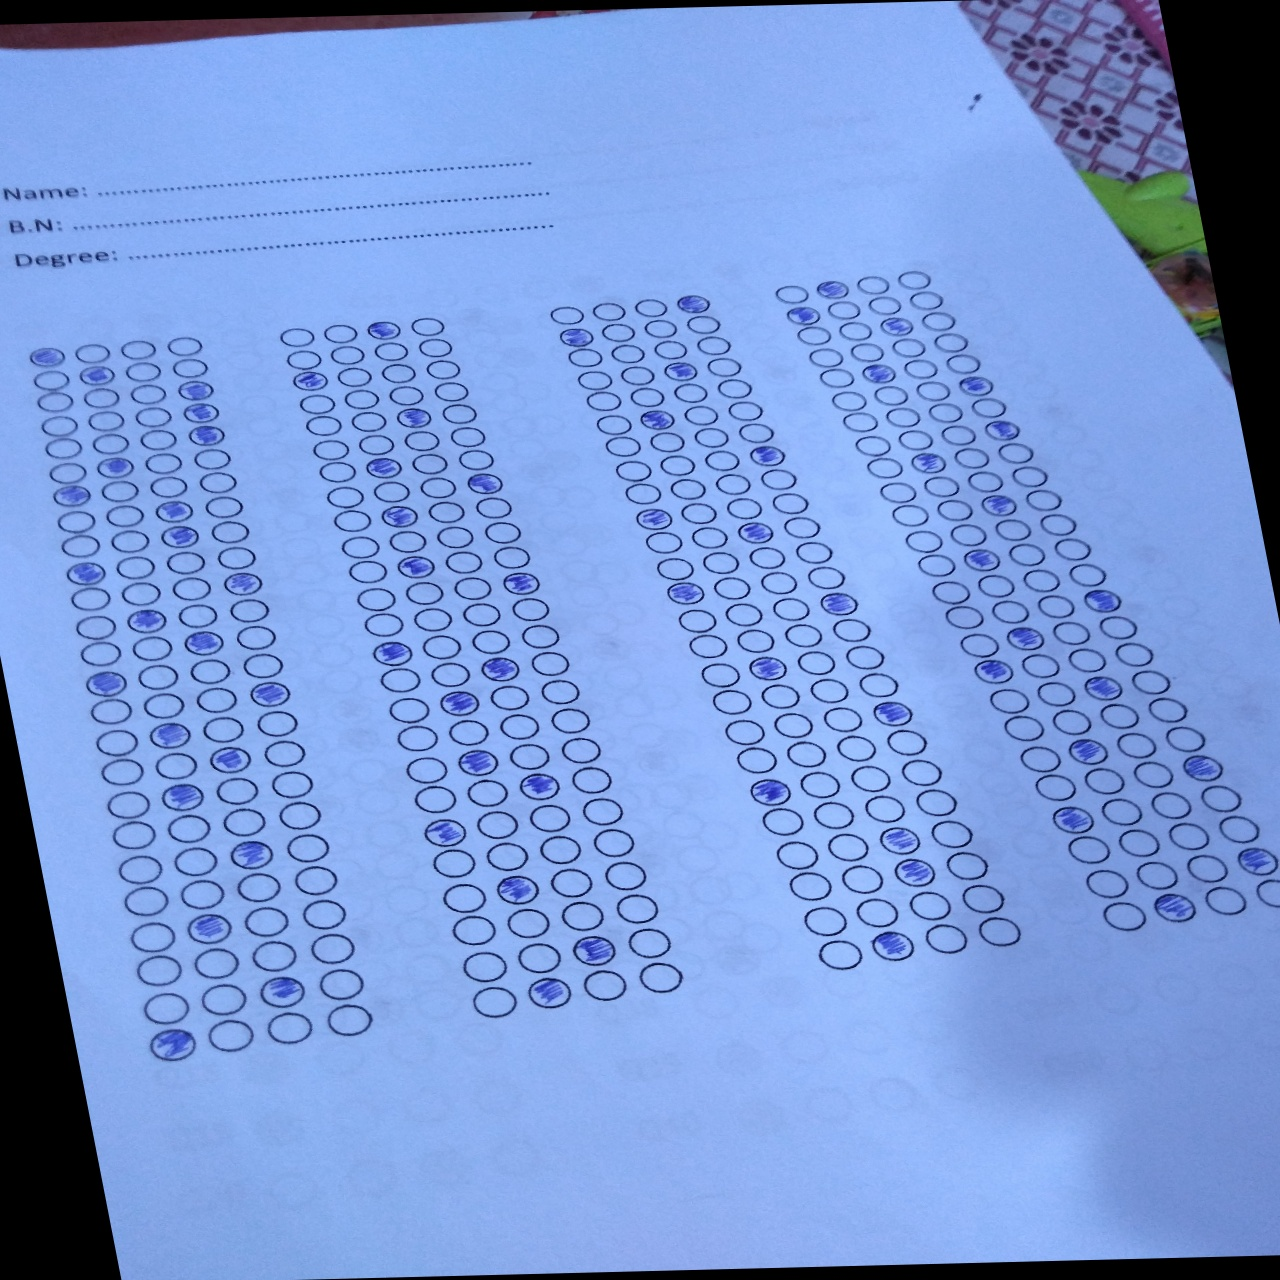not-c: (1081, 865, 1138, 901), (1131, 855, 1187, 891), (1182, 850, 1238, 886), (1200, 884, 1257, 920), (239, 903, 292, 941), (196, 980, 250, 1017), (139, 987, 192, 1024), (263, 1008, 315, 1046), (1062, 833, 1118, 869), (1092, 899, 1149, 934), (321, 1002, 375, 1039), (134, 953, 188, 989), (203, 1016, 256, 1053), (125, 919, 181, 953), (159, 812, 215, 845), (440, 881, 492, 915), (458, 949, 511, 983), (813, 937, 866, 971), (956, 879, 1009, 913), (447, 913, 501, 946), (847, 894, 901, 927), (427, 846, 481, 879), (613, 892, 665, 926), (558, 898, 610, 932), (799, 903, 851, 937), (926, 816, 978, 850), (635, 961, 688, 994), (622, 926, 675, 959), (468, 985, 520, 1017), (835, 863, 887, 896), (784, 871, 837, 904), (282, 830, 333, 864), (233, 869, 284, 903), (587, 825, 639, 858), (481, 838, 532, 871), (547, 866, 599, 899), (920, 922, 972, 955), (769, 838, 821, 871), (847, 762, 899, 795), (862, 789, 913, 822), (912, 787, 964, 819), (939, 849, 990, 881), (597, 858, 649, 890), (513, 940, 566, 972), (822, 832, 874, 864), (171, 844, 222, 877), (121, 883, 171, 915), (115, 853, 165, 886), (176, 879, 226, 912), (299, 899, 350, 931), (974, 915, 1026, 947), (503, 906, 554, 938), (579, 967, 631, 999), (533, 833, 585, 865), (906, 891, 958, 922), (894, 756, 946, 788), (308, 930, 358, 962), (192, 947, 241, 980), (248, 939, 299, 971), (292, 864, 342, 896), (316, 968, 366, 1000), (237, 651, 290, 680), (218, 805, 266, 837), (199, 714, 247, 745), (86, 695, 134, 727), (189, 685, 238, 715), (188, 658, 237, 688), (104, 790, 154, 821), (151, 750, 202, 779), (275, 799, 324, 830), (93, 726, 141, 756), (1064, 644, 1112, 674), (1107, 638, 1155, 668), (132, 662, 184, 690), (98, 758, 148, 788), (107, 819, 156, 849), (1016, 652, 1065, 681), (535, 678, 583, 707), (568, 765, 617, 795), (729, 745, 777, 775), (374, 666, 422, 695), (213, 777, 261, 806), (821, 704, 869, 734), (988, 597, 1036, 626), (912, 550, 960, 579), (1095, 702, 1143, 731), (756, 683, 805, 712), (496, 713, 543, 742), (577, 795, 624, 824), (546, 706, 593, 735), (719, 600, 765, 629), (697, 661, 744, 690), (462, 777, 509, 806), (808, 799, 855, 829), (781, 738, 828, 768), (260, 738, 307, 768), (427, 659, 474, 688), (409, 605, 456, 634), (1030, 772, 1077, 802), (1015, 743, 1062, 772), (1167, 821, 1214, 850), (1096, 797, 1143, 826), (1082, 765, 1129, 795), (973, 571, 1020, 600), (953, 629, 1000, 659), (1148, 790, 1194, 819), (1145, 694, 1192, 723), (1128, 667, 1175, 696), (1062, 559, 1109, 588), (792, 535, 839, 564), (464, 627, 515, 654), (129, 632, 173, 662), (232, 622, 280, 651), (505, 742, 553, 770), (733, 628, 781, 656), (758, 808, 806, 836), (685, 634, 733, 662), (471, 810, 519, 838), (527, 804, 576, 832), (769, 595, 817, 624), (798, 771, 846, 799), (266, 769, 314, 797), (410, 785, 458, 813), (392, 724, 440, 753), (384, 697, 433, 726), (139, 692, 188, 720), (1046, 709, 1094, 737), (1032, 678, 1080, 706), (938, 602, 986, 631), (899, 525, 947, 553), (1126, 758, 1175, 787), (1112, 730, 1160, 758), (1194, 783, 1242, 811), (1047, 533, 1095, 561), (799, 561, 847, 590), (457, 600, 503, 629), (486, 685, 533, 713), (557, 737, 604, 765), (767, 713, 813, 741), (708, 687, 755, 715), (445, 719, 492, 747), (252, 709, 299, 737), (418, 634, 465, 662), (401, 751, 448, 779), (982, 687, 1029, 715), (828, 613, 874, 641), (842, 642, 888, 670), (806, 676, 853, 704), (856, 670, 903, 699), (831, 733, 878, 761), (999, 712, 1046, 740), (1214, 813, 1261, 842), (1116, 828, 1163, 856), (925, 579, 972, 607), (1047, 619, 1094, 647), (1162, 724, 1208, 753), (1092, 612, 1139, 640), (1030, 509, 1077, 537), (1034, 593, 1081, 621), (1020, 567, 1067, 595), (1005, 542, 1051, 570), (722, 719, 769, 745), (105, 529, 154, 554), (161, 331, 206, 358), (516, 622, 561, 649), (874, 482, 918, 510), (175, 602, 222, 628), (403, 581, 450, 607), (200, 493, 245, 520), (1023, 484, 1065, 512), (969, 393, 1012, 421), (338, 535, 383, 560), (39, 413, 84, 438), (527, 651, 571, 678), (886, 730, 930, 757), (324, 343, 370, 368), (66, 586, 113, 611), (59, 533, 105, 558), (40, 437, 87, 462), (79, 641, 125, 666), (116, 336, 161, 362), (190, 448, 234, 474), (408, 311, 452, 336), (170, 576, 215, 601), (295, 392, 340, 417), (363, 611, 408, 636), (760, 568, 802, 595), (965, 469, 1007, 496), (945, 518, 987, 545), (996, 440, 1039, 467), (135, 428, 181, 452), (227, 598, 273, 622), (354, 433, 400, 457), (333, 365, 379, 389), (331, 509, 376, 533), (325, 485, 370, 510), (308, 436, 354, 461), (54, 508, 100, 532), (103, 503, 149, 527), (86, 434, 131, 458), (930, 496, 975, 520), (451, 576, 495, 601), (781, 622, 824, 648), (165, 549, 206, 576), (990, 515, 1032, 542), (1010, 464, 1051, 491), (345, 410, 392, 434), (343, 559, 390, 583), (30, 392, 77, 415), (73, 615, 120, 639), (206, 520, 251, 545), (546, 300, 591, 325), (79, 384, 123, 409), (274, 324, 319, 348), (121, 361, 165, 386), (354, 586, 399, 611), (118, 583, 163, 607), (111, 556, 156, 580), (96, 481, 141, 505), (674, 608, 719, 633), (132, 406, 175, 431), (282, 346, 325, 372), (794, 649, 836, 675), (369, 481, 415, 504), (340, 388, 386, 411), (300, 416, 346, 440), (1250, 880, 1280, 915), (213, 546, 257, 571), (72, 341, 115, 366), (925, 400, 968, 424), (938, 421, 981, 445), (125, 382, 170, 406), (43, 461, 88, 484), (700, 448, 744, 471), (869, 382, 913, 406), (903, 287, 947, 311), (565, 345, 607, 369), (920, 476, 962, 501), (193, 470, 237, 493), (28, 368, 72, 392), (316, 320, 360, 343), (401, 428, 444, 451), (508, 598, 551, 621), (489, 545, 532, 568), (580, 389, 624, 413), (443, 549, 486, 572), (641, 530, 685, 553), (755, 465, 798, 489), (713, 377, 756, 401), (704, 354, 748, 377), (949, 445, 993, 469), (896, 428, 937, 452), (315, 458, 360, 481), (733, 422, 777, 444), (379, 361, 421, 384), (472, 497, 515, 520), (456, 445, 498, 469), (593, 411, 635, 435), (710, 576, 753, 599), (656, 454, 699, 477), (863, 456, 905, 479), (838, 409, 880, 433), (813, 366, 856, 389), (903, 358, 945, 381), (942, 350, 985, 374), (429, 381, 472, 403), (440, 403, 483, 425), (434, 525, 477, 547), (417, 475, 461, 497), (573, 369, 617, 392), (610, 458, 653, 481), (653, 558, 696, 580), (721, 496, 764, 518), (672, 382, 715, 404), (699, 551, 742, 573), (688, 526, 731, 549), (768, 492, 811, 515), (695, 335, 738, 358), (893, 268, 937, 291), (418, 358, 464, 379), (86, 410, 127, 434), (370, 340, 411, 363), (387, 384, 429, 407), (481, 520, 523, 543), (425, 501, 468, 523), (408, 452, 450, 475), (433, 524, 475, 546), (622, 482, 665, 504), (625, 384, 667, 407), (615, 365, 658, 387), (713, 472, 755, 495), (679, 403, 721, 425), (678, 503, 720, 525), (723, 399, 765, 421), (747, 546, 789, 568), (781, 515, 823, 537), (881, 406, 924, 428), (850, 433, 892, 455), (805, 348, 847, 370), (911, 380, 953, 402), (930, 329, 972, 352), (170, 358, 212, 380), (134, 406, 173, 429), (645, 431, 688, 452), (602, 434, 644, 456), (692, 425, 733, 448), (828, 389, 869, 411), (587, 300, 629, 321), (448, 425, 490, 447), (645, 431, 687, 452), (663, 479, 706, 501), (888, 504, 931, 525), (919, 309, 961, 331), (143, 452, 183, 475), (794, 324, 835, 345), (148, 476, 188, 497), (640, 316, 680, 338), (415, 338, 456, 358), (595, 322, 636, 342), (853, 274, 894, 294), (888, 338, 930, 358), (864, 293, 905, 313), (846, 342, 887, 362), (823, 299, 864, 319), (835, 320, 876, 340), (770, 284, 811, 304), (685, 314, 723, 335), (608, 343, 647, 365), (651, 338, 690, 358), (629, 299, 669, 318)
taken-c: (144, 1027, 205, 1063), (522, 972, 576, 1012), (1149, 890, 1205, 926), (864, 930, 921, 964), (253, 974, 309, 1008), (887, 855, 942, 888), (568, 933, 622, 966), (1046, 803, 1098, 836), (867, 697, 920, 730), (141, 721, 198, 750), (183, 913, 238, 944), (1233, 842, 1280, 877), (876, 825, 928, 855), (495, 873, 544, 904), (1000, 624, 1049, 654), (227, 838, 275, 869), (1078, 673, 1126, 703), (366, 639, 416, 667), (245, 679, 293, 708), (420, 818, 469, 846), (455, 748, 504, 776), (157, 782, 206, 810), (1062, 737, 1111, 765), (1179, 753, 1228, 781), (958, 545, 1007, 573), (123, 607, 172, 634), (478, 656, 526, 683), (62, 559, 110, 586), (517, 772, 565, 799), (438, 690, 486, 717), (745, 777, 794, 804), (207, 745, 256, 772), (1078, 587, 1126, 614), (972, 656, 1017, 685), (89, 454, 138, 479), (360, 315, 409, 341), (72, 363, 121, 389), (812, 591, 862, 617), (82, 669, 128, 696), (181, 629, 227, 655), (23, 345, 72, 369), (659, 359, 704, 384), (672, 291, 716, 316), (173, 377, 219, 402), (634, 407, 680, 431), (149, 499, 195, 524), (744, 656, 790, 681), (734, 520, 779, 545), (179, 400, 223, 425), (979, 492, 1020, 519), (45, 484, 91, 508), (554, 324, 599, 348), (377, 504, 422, 529), (184, 424, 229, 449), (663, 583, 709, 606), (497, 572, 543, 595), (979, 417, 1024, 441), (857, 361, 903, 384), (745, 444, 789, 469), (395, 554, 438, 579), (877, 312, 920, 336), (633, 508, 678, 531), (219, 571, 264, 594), (906, 451, 951, 475), (159, 526, 204, 549), (463, 472, 510, 493), (361, 457, 407, 478), (288, 370, 334, 392), (393, 407, 435, 429), (779, 304, 824, 325), (955, 375, 1000, 395), (810, 279, 855, 299)
